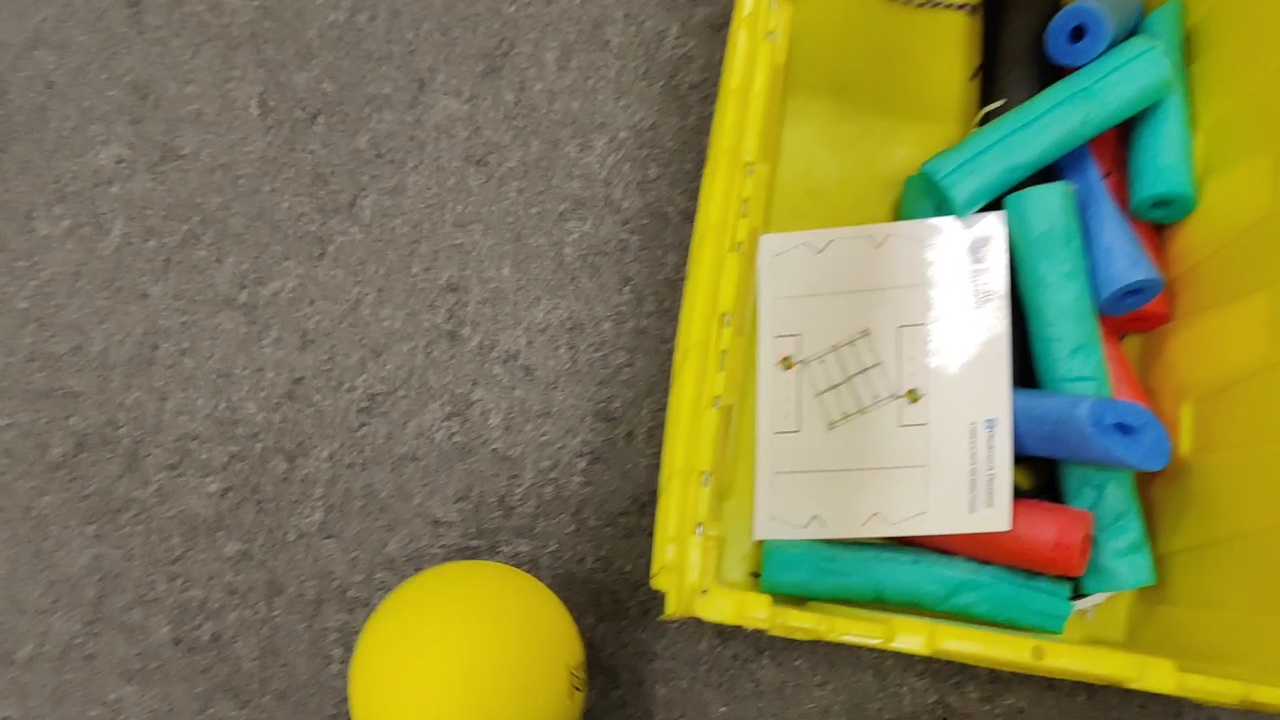Ball: (346, 559, 589, 720)
